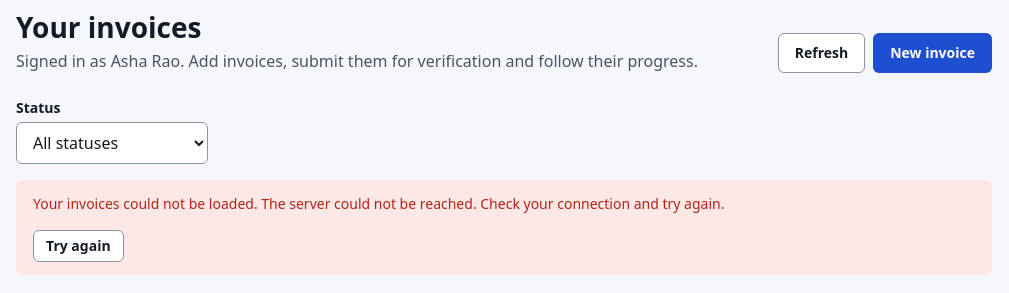
Test: InvoiceListComponent › reports a failure and loads again on retry
Click the button "Try again". click: (78, 246)
box: [33,230,124,262]
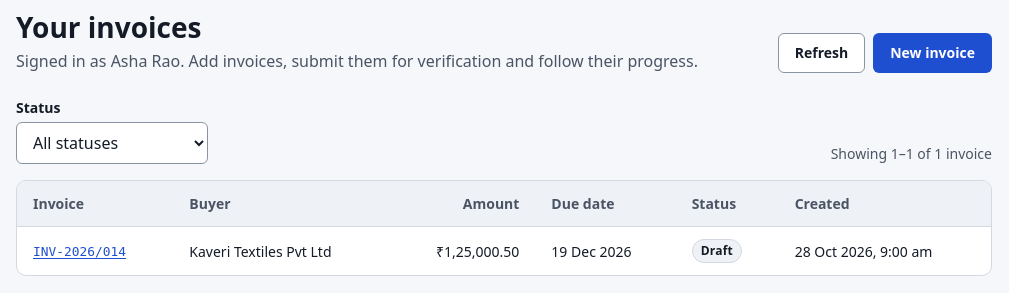
Expected: the message is gone
